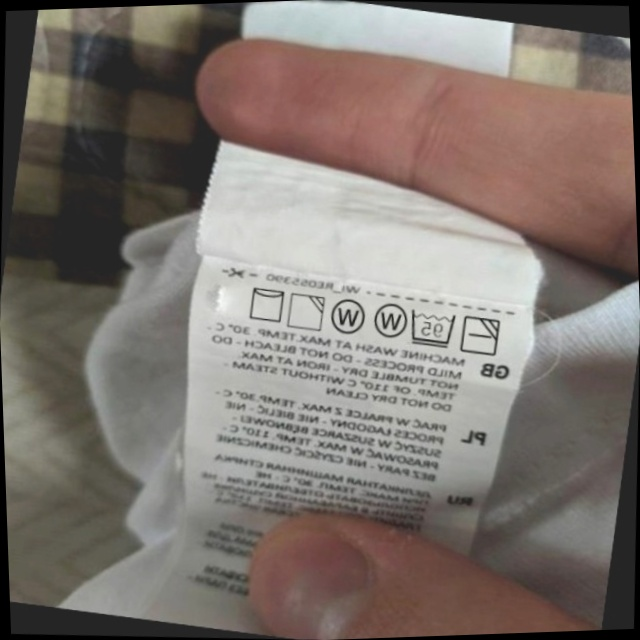95C: (404, 304, 460, 352)
dry_flat_in_shade: (457, 310, 505, 360)
line_dry: (243, 281, 290, 327)
shade_dry: (283, 288, 329, 335)
wet_clean: (368, 295, 411, 343), (326, 294, 370, 340)
